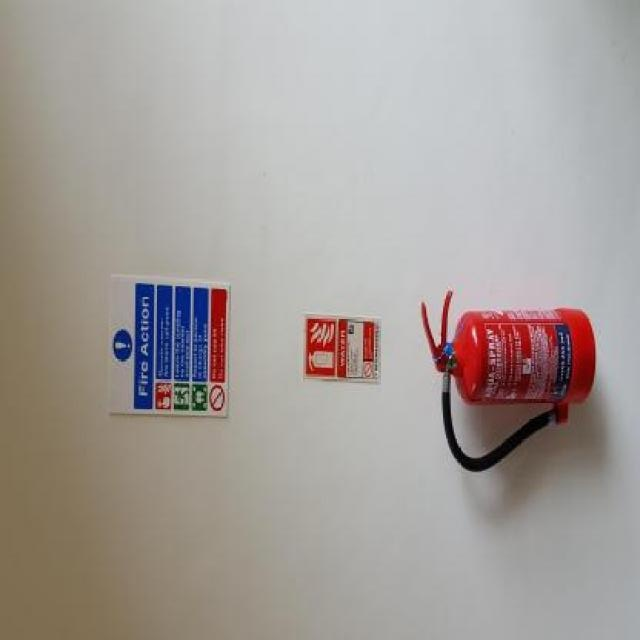fire extinguisher: (418, 276, 598, 482)
